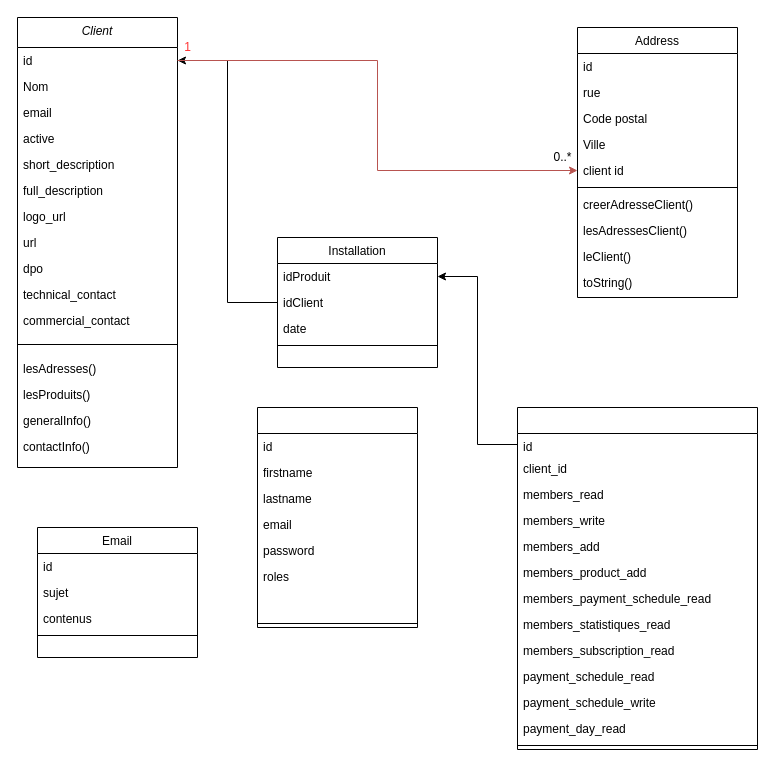
Some shapes in this 775 by 767 pixel diagram are drawn without their labels. Here are the shapes that lost their labels. From the top down, the box of each, then its label:
(256, 406, 418, 628): Users
(516, 406, 758, 750): Produit
